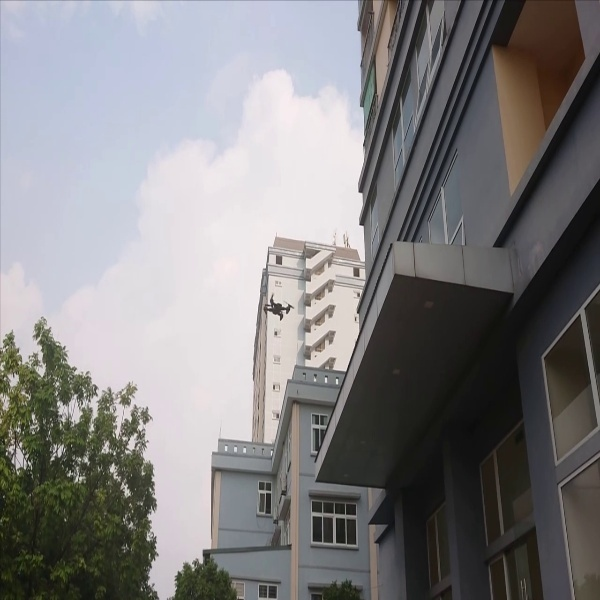drone: (256, 283, 301, 329)
